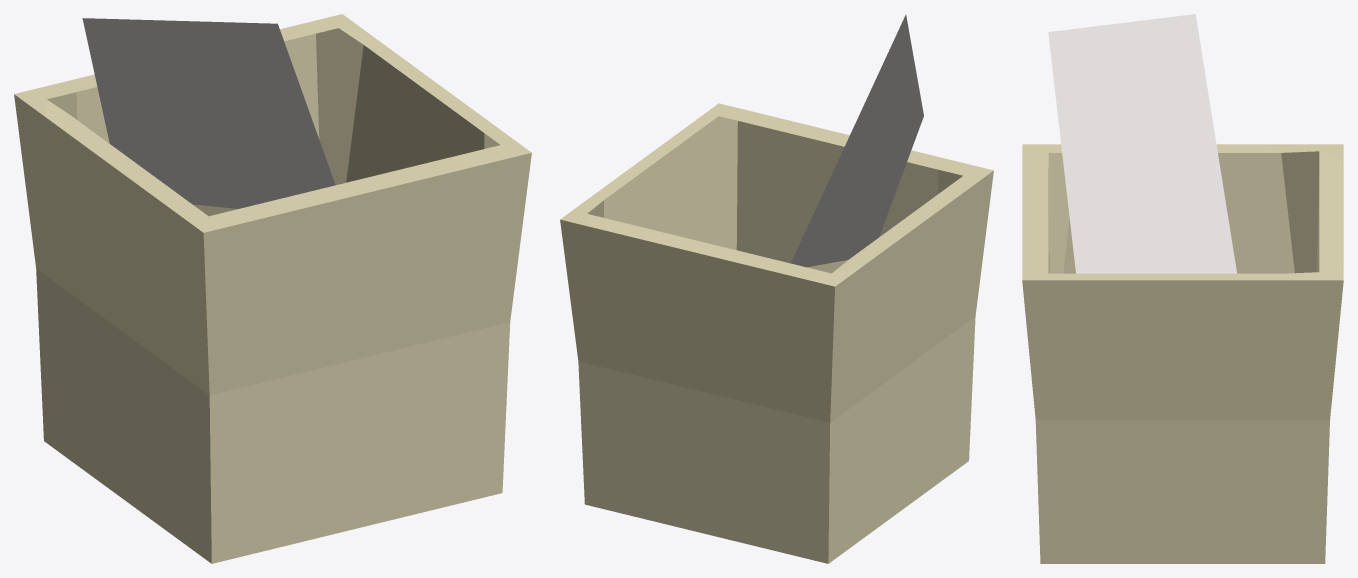
Rendered from trashcan.glb.
3 views of the same model, side by side, from view 1: azimuth 30°, elevation 25°; view 2: azimuth 150°, elevation 25°; view 3: azimuth 270°, elevation 25° (orthographic). The views are drawn at different scales.
Parts seen in each view (by area): view 1: Cube; view 2: Cube; view 3: Cube.
Boxes of the visible parts, x1,y1,x2,y2 form: Cube: (14,14,531,563); Cube: (560,14,993,563); Cube: (1022,14,1343,563).
Bounding box in the file's own units: 0.8233 × 1.18 × 0.7786.
